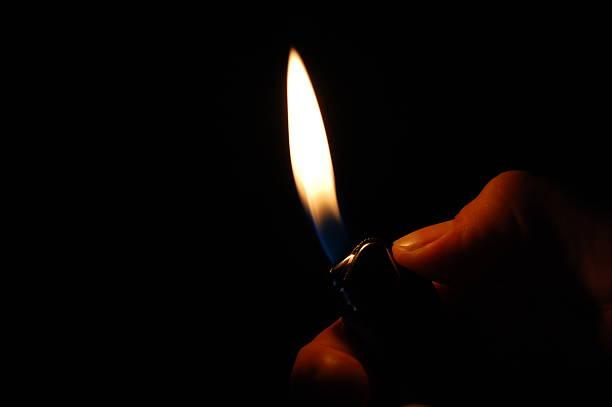Fire: (281, 46, 350, 256)
